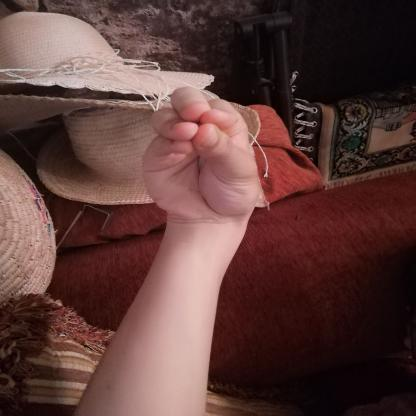HA: (121, 73, 282, 235)
